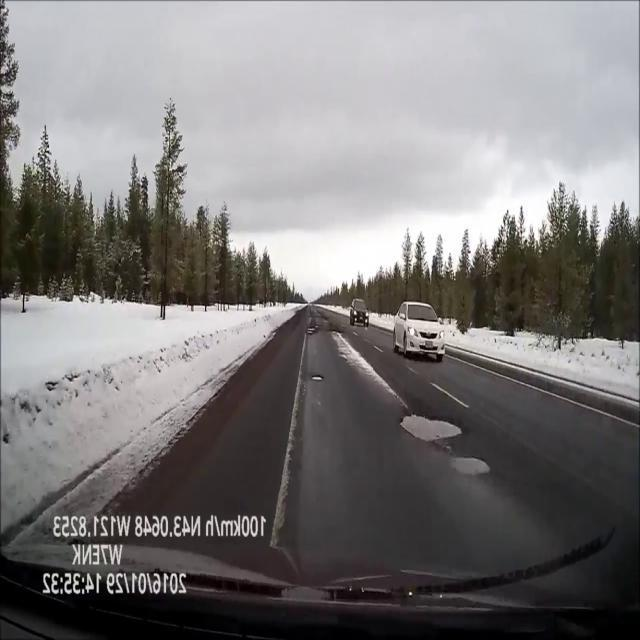pothole: (399, 410, 464, 443), (450, 456, 491, 478), (309, 373, 327, 382), (307, 325, 319, 334), (329, 328, 343, 334)
